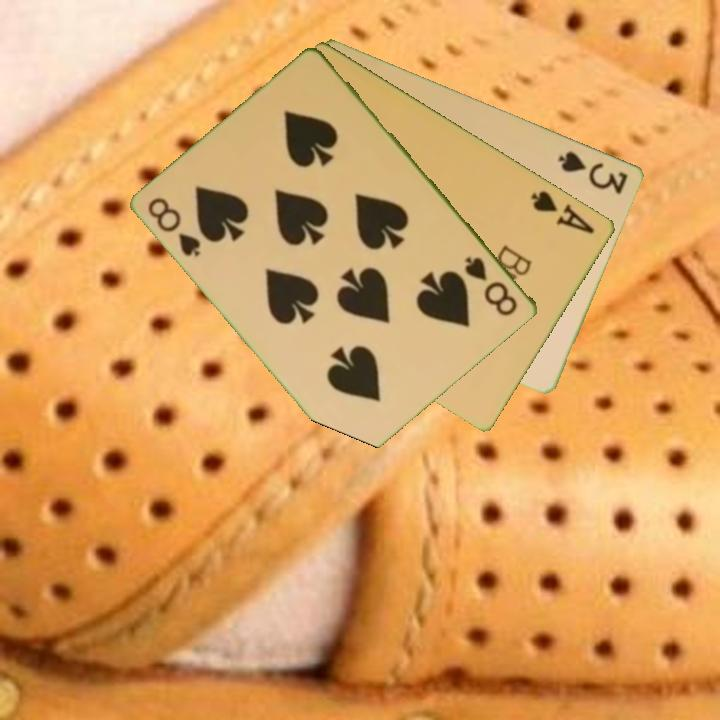3s: (555, 147, 631, 197)
8s: (144, 193, 204, 260), (462, 253, 522, 319)
As: (528, 186, 598, 237)
